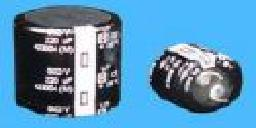Electrolytic-Capacitor: (6, 2, 131, 120), (148, 40, 246, 114)
